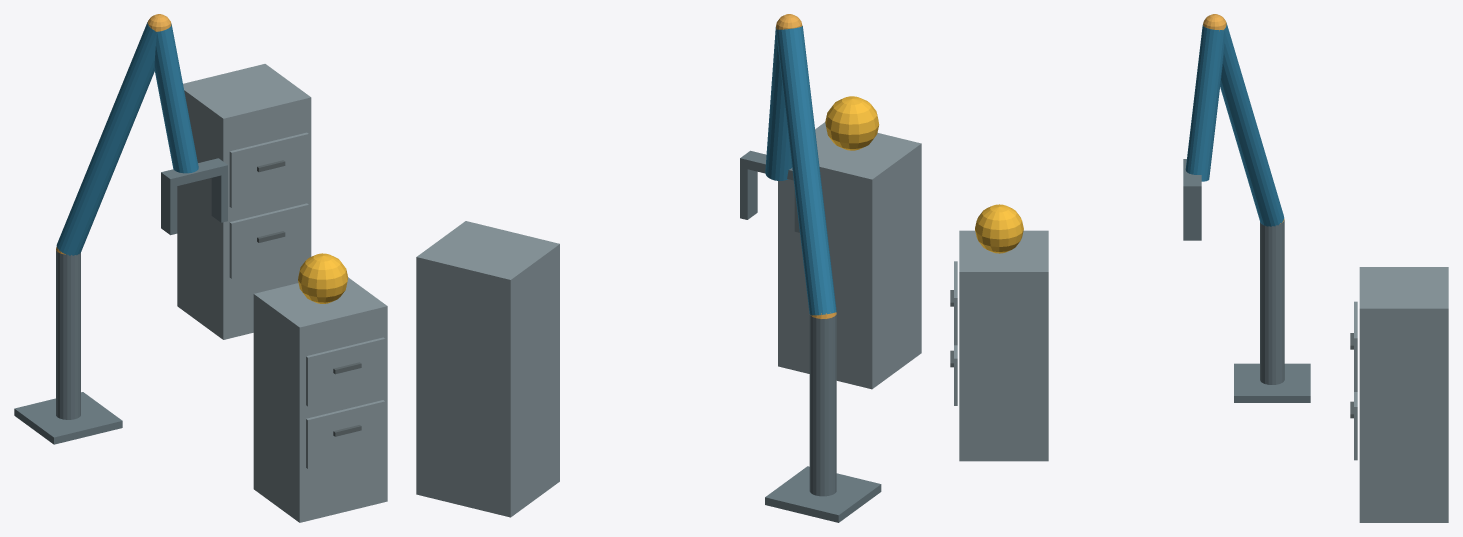
3 renders of one model, left to right at view 1: azimuth 30°, elevation 25°; view 2: azimuth 150°, elevation 25°; view 3: azimuth 270°, elevation 25°, orthographic. The views are drawn at different scales.
Parts seen in each view (by area): view 1: cabinet_1 body, cabinet_2 body, moving link 1, cabinet_2 drawer front.001, cabinet_2 drawer front, fixed post, cabinet_1 drawer front.001, cabinet_1 drawer front, moving link 2, pedestal, ball ball_1, gripper bridge (+2 smaller); view 2: cabinet_2 body, cabinet_1 body, moving link 1, fixed post, pedestal, ball ball_1, moving link 2, gripper finger 1; view 3: cabinet_2 body, cabinet_1 body, moving link 1, fixed post, moving link 2, pedestal, ball ball_1, gripper finger 1.
Boxes of the visible parts, x1,y1,x2,y2 form: cabinet_1 body: [253, 277, 387, 522]; cabinet_2 body: [177, 64, 311, 339]; moving link 1: [56, 22, 156, 255]; cabinet_2 drawer front.001: [229, 132, 308, 207]; cabinet_2 drawer front: [229, 203, 308, 278]; fixed post: [56, 250, 80, 419]; cabinet_1 drawer front.001: [306, 337, 385, 406]; cabinet_1 drawer front: [306, 400, 385, 468]; moving link 2: [154, 24, 198, 173]; pedestal: [14, 392, 122, 444]; ball ball_1: [298, 253, 348, 303]; gripper bridge: [161, 158, 227, 187]; cabinet_2 body: [416, 221, 559, 517]; cabinet_1 body: [778, 122, 921, 389]; moving link 1: [776, 26, 836, 315]; fixed post: [809, 312, 836, 496]; pedestal: [765, 466, 881, 522]; ball ball_1: [825, 96, 879, 150]; moving link 2: [765, 27, 791, 180]; gripper finger 1: [740, 167, 757, 219]; cabinet_2 body: [1359, 267, 1448, 522]; cabinet_1 body: [959, 230, 1048, 461]; moving link 1: [1220, 22, 1284, 226]; fixed post: [1260, 220, 1284, 384]; moving link 2: [1185, 25, 1224, 181]; pedestal: [1234, 363, 1310, 402]; ball ball_1: [975, 204, 1023, 253]; gripper finger 1: [1183, 194, 1201, 240].
Bounding box in the file's own units: 1.17 × 1.44 × 1.62.
